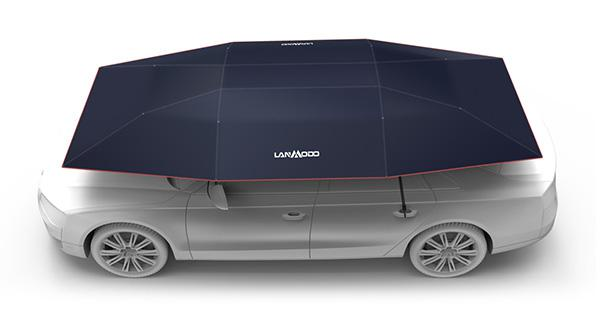car: (25, 33, 573, 293)
